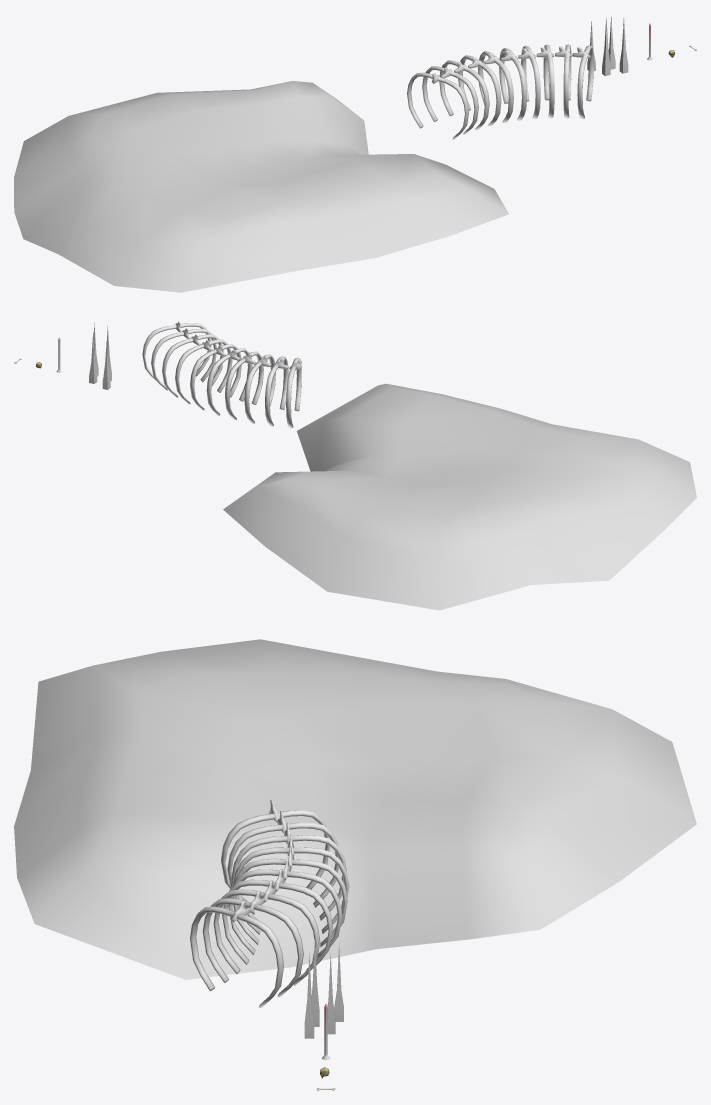
File: Lava.fbx
The picture shows the model from 3 angles, top to bottom: view 1: azimuth 30°, elevation 25°; view 2: azimuth 150°, elevation 25°; view 3: azimuth 270°, elevation 25°; orthographic projection. The views are drawn at different scales.
Parts seen in each view (by area): view 1: Lava_Ilha.001, Esqueletao, Espinhos.001; view 2: Lava_Ilha.001, Esqueletao, Espinhos.001; view 3: Lava_Ilha.001, Esqueletao, Espinhos.001.
Part boxes in pixels (box(x1,y1,x2,y2)): Lava_Ilha.001: box(14, 81, 508, 292); Esqueletao: box(407, 44, 593, 139); Espinhos.001: box(587, 17, 628, 76); Lava_Ilha.001: box(223, 383, 696, 610); Esqueletao: box(142, 321, 301, 428); Espinhos.001: box(89, 322, 111, 389); Lava_Ilha.001: box(14, 639, 696, 979); Esqueletao: box(190, 800, 349, 1007); Espinhos.001: box(304, 938, 343, 1038).
Size of the model in its own units: 1525 by 272 by 907.
